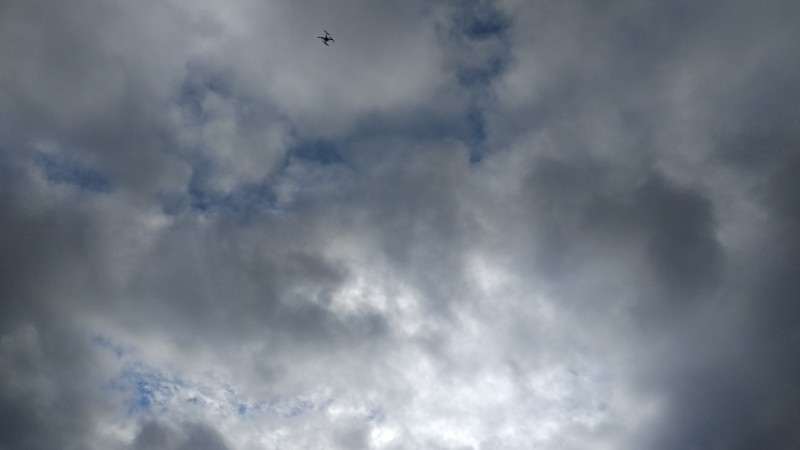drone: (317, 31, 334, 45)
